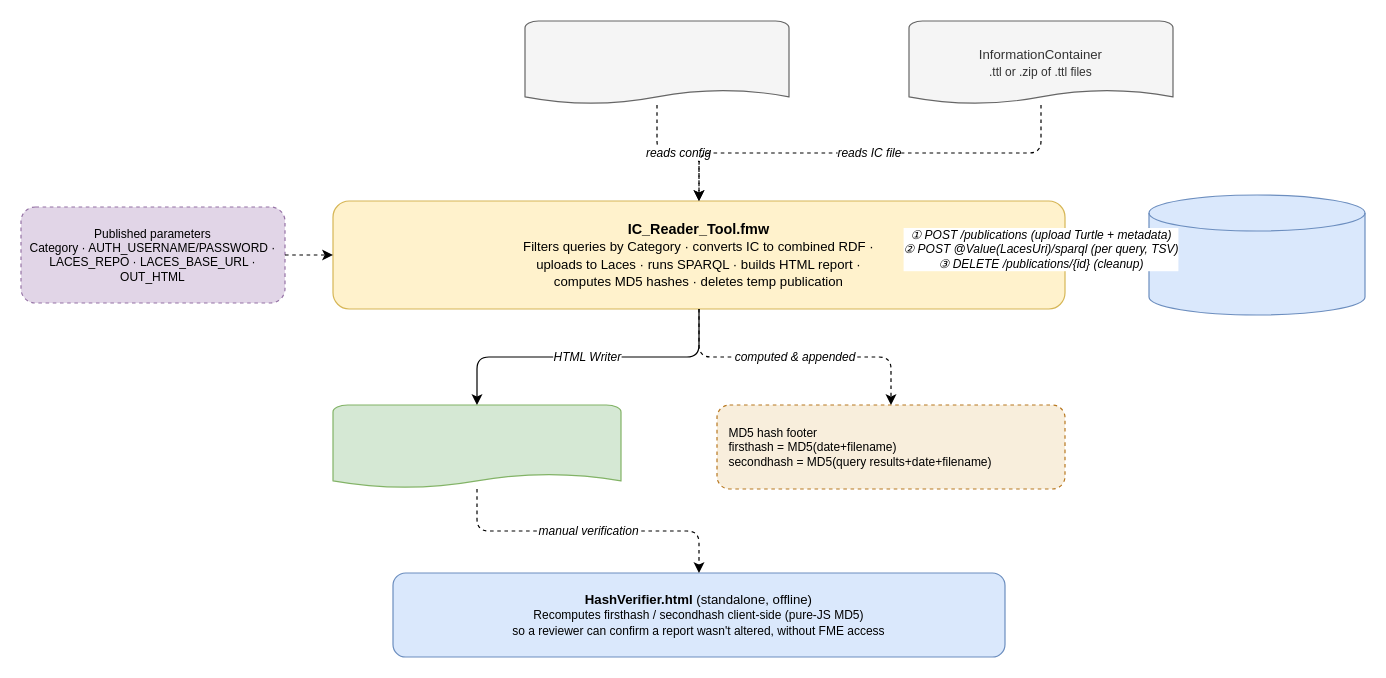
Some shapes in this 1386 by 678 pixel diagram are drawn without their labels. Here are the shapes that lost their labels. From the top down, the box of each, then its label:
(524, 20, 789, 105): IC_Reader_Tool_Config_v5.xlsx Query definitions & report text
(1148, 194, 1365, 315): Laces $(LACES_BASE_URL) / $(LACES_REPO)
(332, 404, 621, 489): $(OUT_HTML) Validation / statistics report
